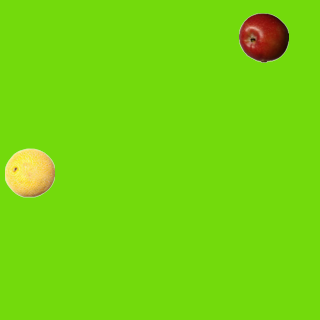Apple Braeburn: (238, 12, 288, 62)
Cantaloupe 1: (4, 147, 54, 197)
